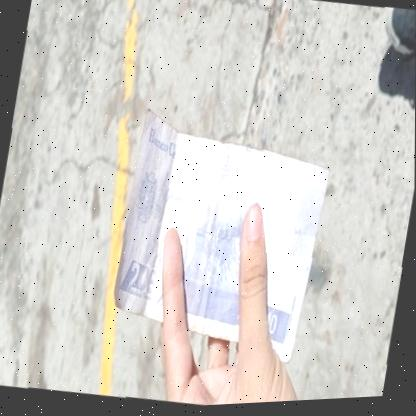ten-back-vef: (105, 102, 335, 378)
